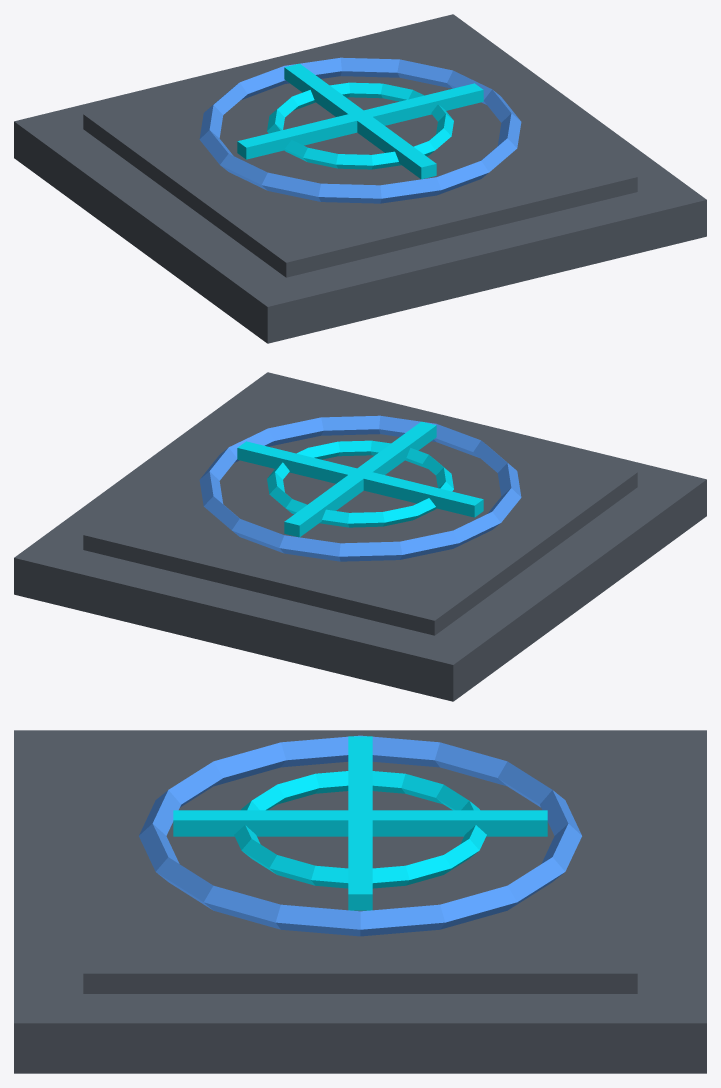
File: TD_RangeTile.fbx
3 renders of one model, top to bottom at view 1: azimuth 30°, elevation 25°; view 2: azimuth 150°, elevation 25°; view 3: azimuth 270°, elevation 25°, orthographic. The views are drawn at different scales.
Visible parts, largest first — view 1: TD_RangeTile_BasePlate, TD_RangeTile_Surface, TD_RangeTile_RangeRing_Outer, TD_RangeTile_Crosshair_Horizontal, TD_RangeTile_RangeRing_Inner, TD_RangeTile_Crosshair_Vertical; view 2: TD_RangeTile_BasePlate, TD_RangeTile_Surface, TD_RangeTile_RangeRing_Outer, TD_RangeTile_Crosshair_Horizontal, TD_RangeTile_RangeRing_Inner, TD_RangeTile_Crosshair_Vertical; view 3: TD_RangeTile_Surface, TD_RangeTile_BasePlate, TD_RangeTile_RangeRing_Outer, TD_RangeTile_Crosshair_Vertical, TD_RangeTile_RangeRing_Inner, TD_RangeTile_Crosshair_Horizontal.
Part boxes in pixels (x1,y1,x2,y2): TD_RangeTile_BasePlate: (14, 14, 706, 343); TD_RangeTile_Surface: (83, 28, 637, 277); TD_RangeTile_RangeRing_Outer: (199, 57, 521, 203); TD_RangeTile_Crosshair_Horizontal: (237, 83, 483, 159); TD_RangeTile_RangeRing_Inner: (267, 82, 453, 169); TD_RangeTile_Crosshair_Vertical: (284, 63, 436, 179); TD_RangeTile_BasePlate: (14, 372, 706, 701); TD_RangeTile_Surface: (83, 386, 637, 635); TD_RangeTile_RangeRing_Outer: (199, 415, 521, 561); TD_RangeTile_Crosshair_Horizontal: (237, 441, 483, 517); TD_RangeTile_RangeRing_Inner: (267, 440, 453, 527); TD_RangeTile_Crosshair_Vertical: (284, 421, 436, 537); TD_RangeTile_Surface: (83, 739, 637, 993); TD_RangeTile_BasePlate: (14, 730, 706, 1073); TD_RangeTile_RangeRing_Outer: (139, 735, 581, 936); TD_RangeTile_Crosshair_Vertical: (173, 810, 547, 836); TD_RangeTile_RangeRing_Inner: (234, 771, 486, 888); TD_RangeTile_Crosshair_Horizontal: (348, 736, 372, 910).
Size of the model in its own units: 100 by 17.8 by 100.
